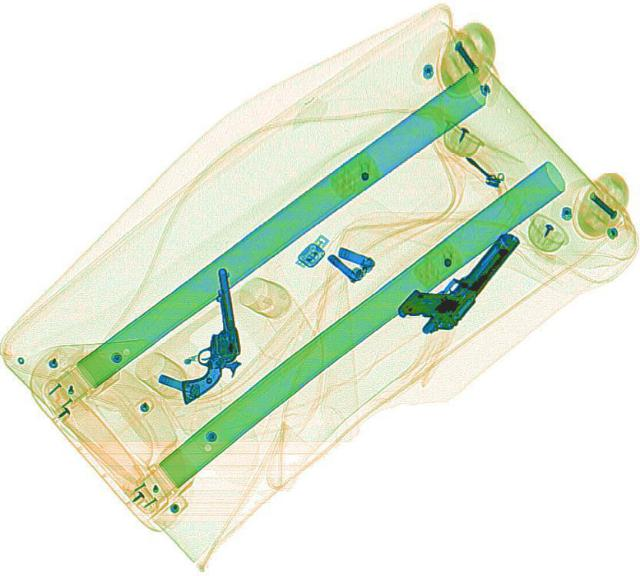Gun: (391, 211, 523, 339), (164, 265, 246, 403)
